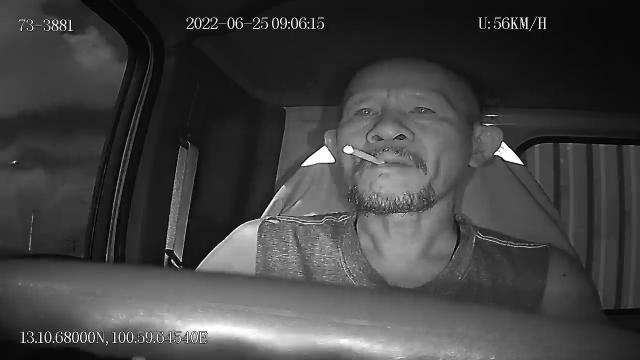SafeDriving: (402, 94, 443, 124), (347, 100, 384, 122)
Smoking: (344, 144, 388, 166)
